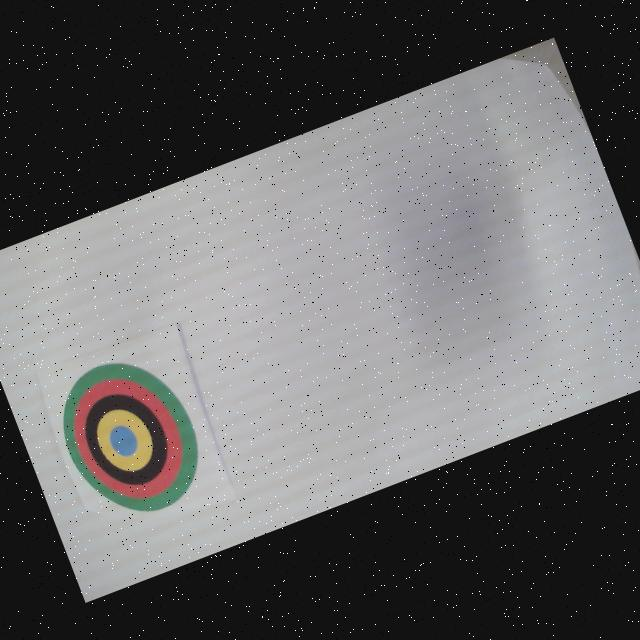COGNITIVE: (44, 341, 218, 534)
